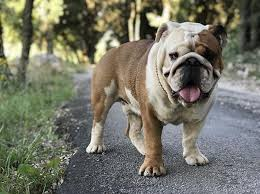Bulldog: (66, 17, 239, 179)
